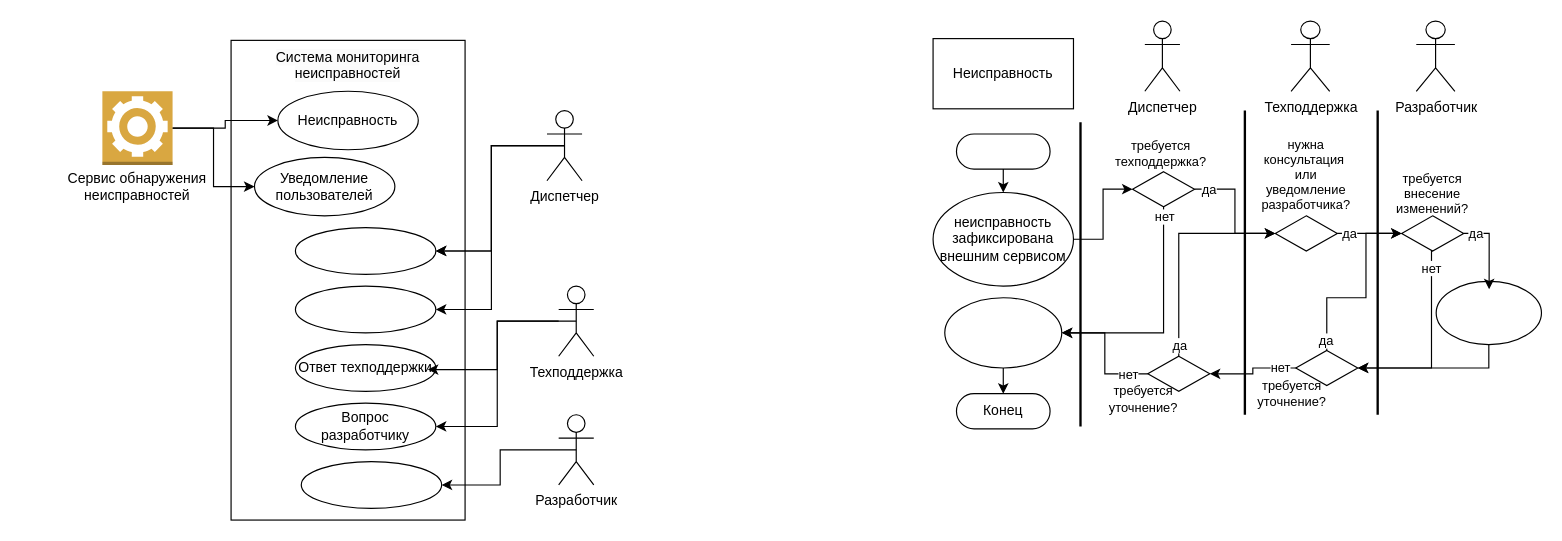
Some shapes in this 1562 by 541 pixel diagram are drawn without their labels. Each missing label, with the centre of its shape:
"Вопрос в техподдержку" belongs at point (365, 309).
"Начало" belongs at point (1002, 151).
"неисправность подтверждена или отклонена" belongs at point (1003, 332).
"Ответ разработчика" belongs at point (371, 484).
"планирование изменений" belongs at point (1488, 312).
"Статус неисправности" belongs at point (365, 250).
